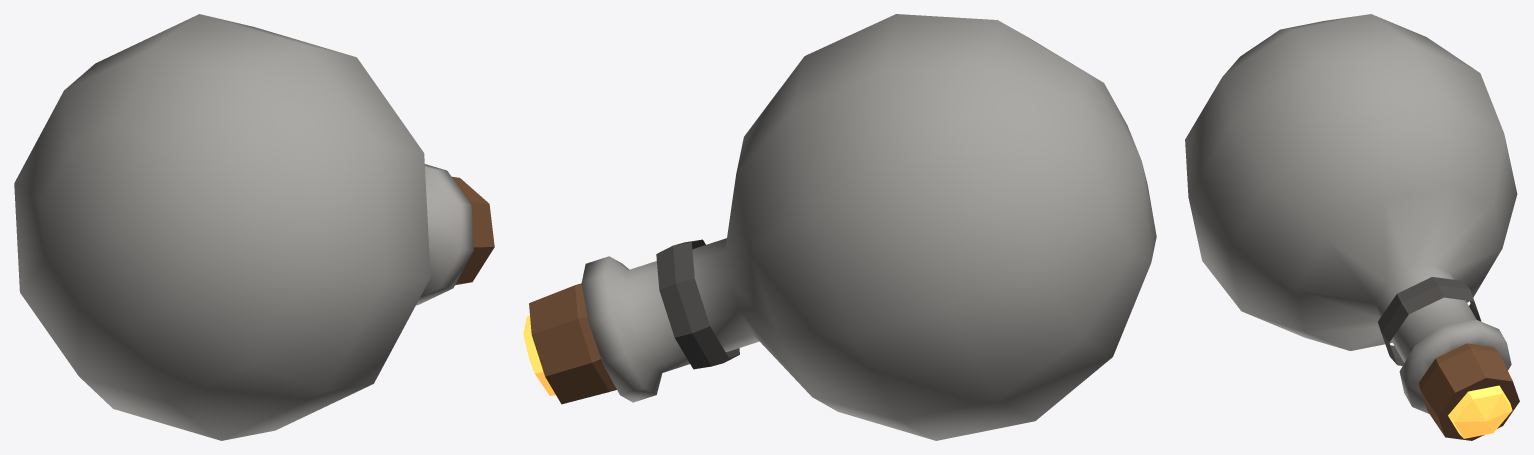
Rendered from potion.glb.
3 renders of one model, left to right at view 1: azimuth 30°, elevation 25°; view 2: azimuth 150°, elevation 25°; view 3: azimuth 270°, elevation 25°, orthographic. The views are drawn at different scales.
Parts seen in each view (by area): view 1: flask_glass, cork; view 2: flask_glass, cork, neck_band, wax_seal; view 3: flask_glass, cork, neck_band, wax_seal.
Part boxes in pixels (x1,y1,x2,y2): flask_glass: (14,14,473,440); cork: (452,176,494,285); flask_glass: (581,14,1156,440); cork: (529,283,616,404); neck_band: (656,239,739,369); wax_seal: (523,315,555,395); flask_glass: (1185,14,1517,413); cork: (1419,343,1519,440); neck_band: (1378,277,1481,365); wax_seal: (1448,385,1512,438).
Size of what is drawn, in the model's own units: 0.1886 by 0.1291 by 0.1339.
